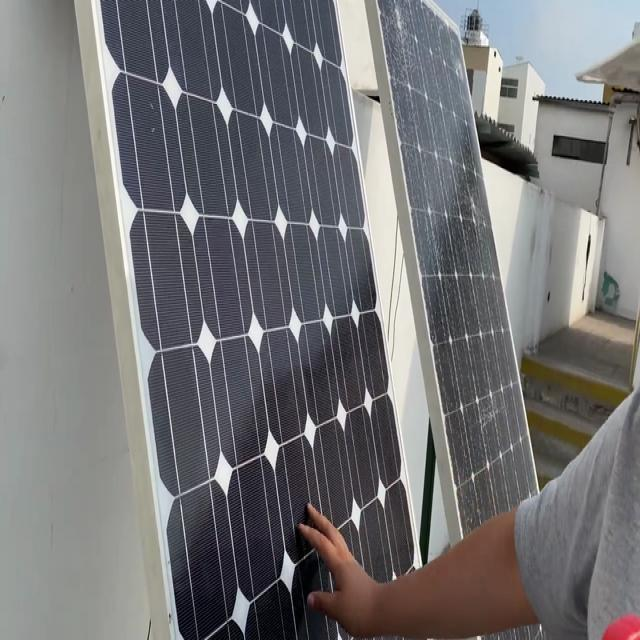Normal Solar Panel: (100, 0, 417, 640)
